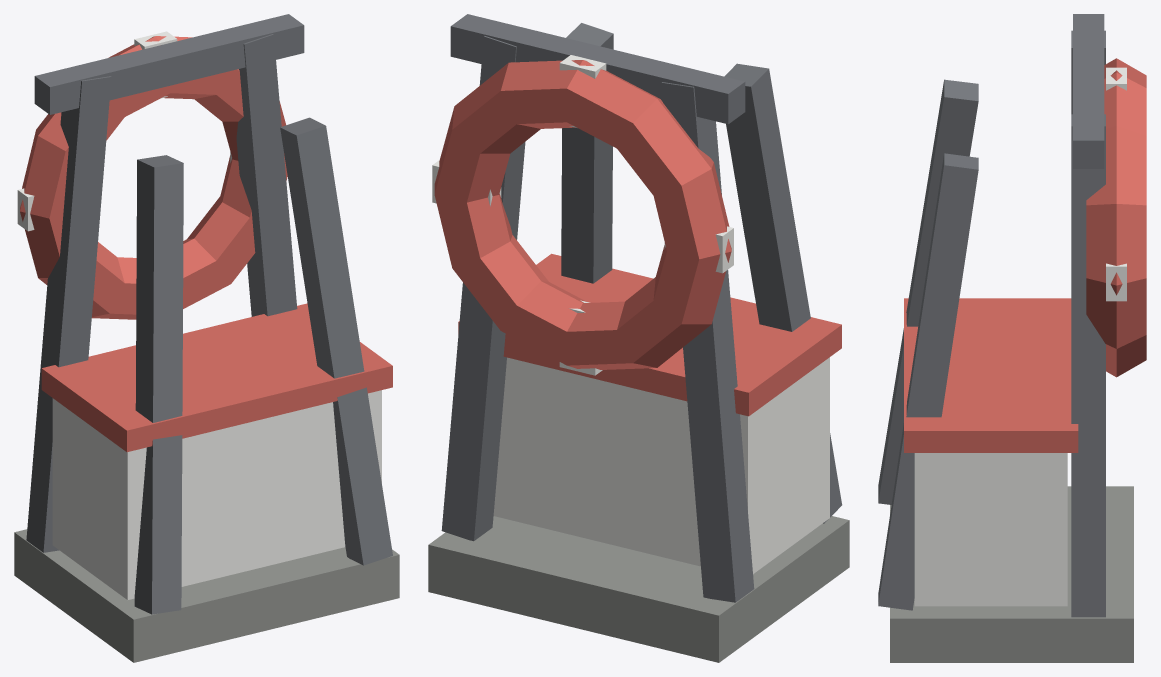
Rendered from lighthouse-and-rocky-coast-lifebuoy-stand-47ad9ea2__36633.glb.
3 views of the same model, side by side, from view 1: azimuth 30°, elevation 25°; view 2: azimuth 150°, elevation 25°; view 3: azimuth 270°, elevation 25° (orthographic). The views are drawn at different scales.
Visible parts, largest first — view 1: lifebuoy-stand; view 2: lifebuoy-stand; view 3: lifebuoy-stand.
Part boxes in pixels (<box>): lifebuoy-stand: <box>14,14,399,662</box>; lifebuoy-stand: <box>428,14,849,662</box>; lifebuoy-stand: <box>878,14,1146,662</box>.
Bounding box in the file's own units: 0.9201 × 1.66 × 0.7707.
